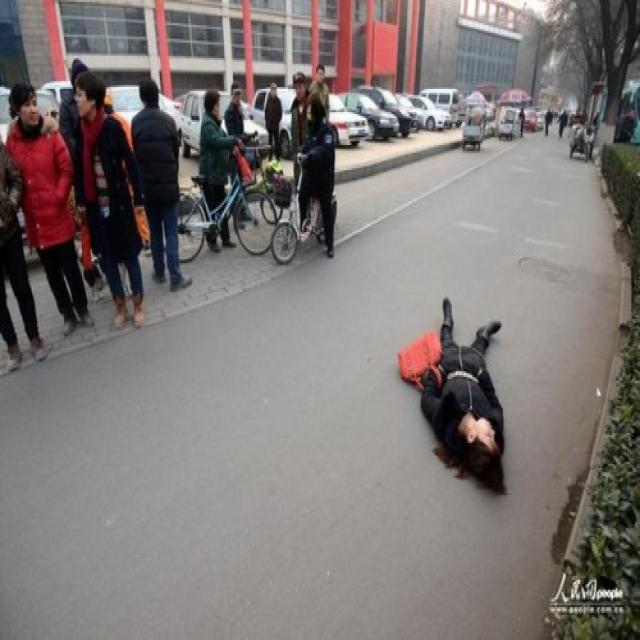10-: (0, 62, 584, 503)
down: (392, 286, 511, 501)
